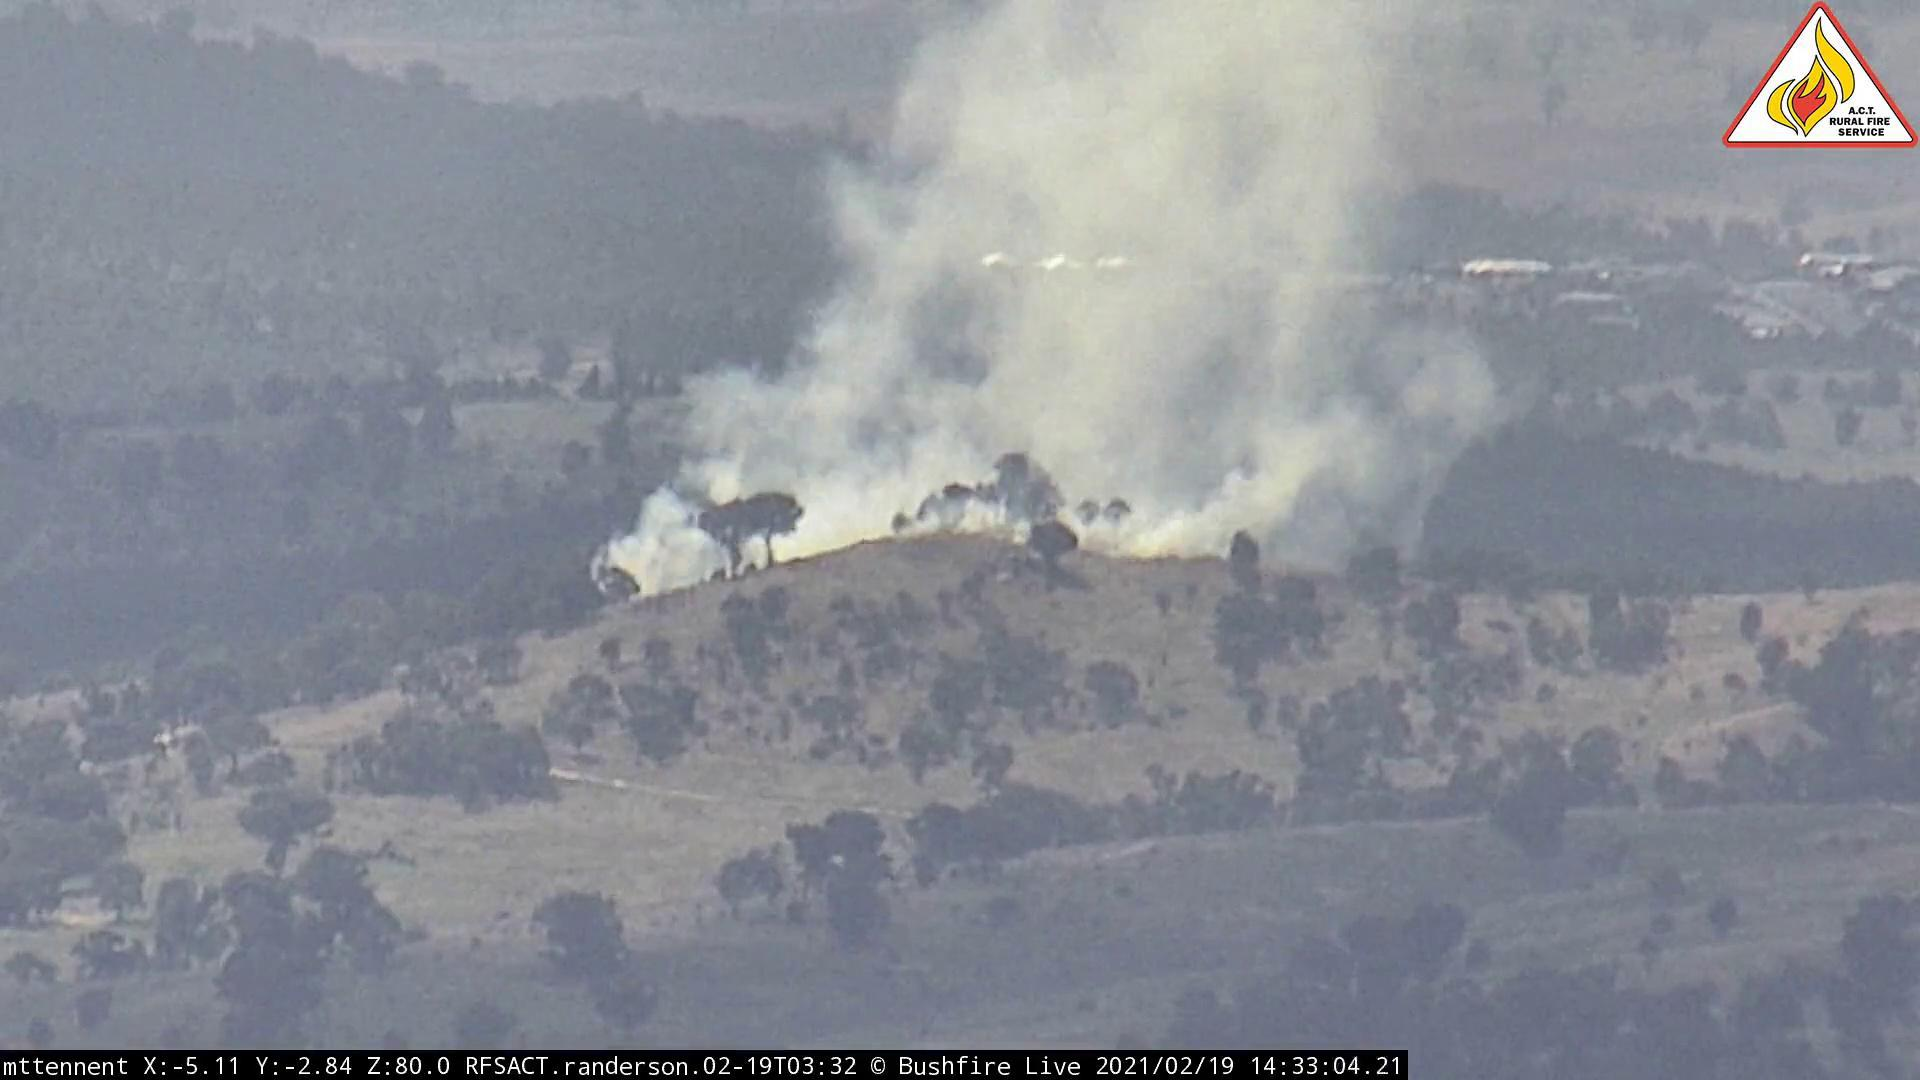Smoke: (596, 3, 1524, 611)
